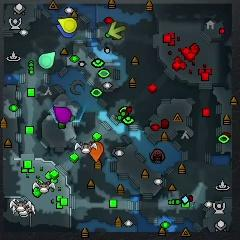p1: (56, 24, 75, 38)
p2: (39, 51, 56, 69)
p3: (53, 106, 72, 124)
p4: (58, 18, 78, 33)
p5: (89, 141, 104, 162)
x2: (108, 22, 125, 39)
